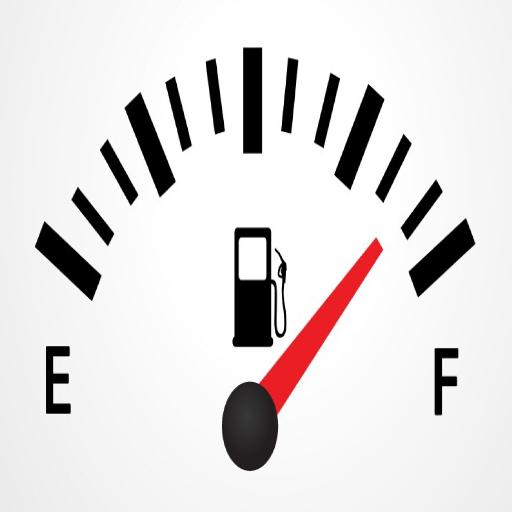empty: (41, 342, 73, 420)
fuel_icon: (231, 222, 287, 349)
guage_area: (13, 44, 479, 486), (432, 345, 459, 418)
needle_center: (216, 372, 279, 473)
needle_tip: (363, 232, 385, 288)
